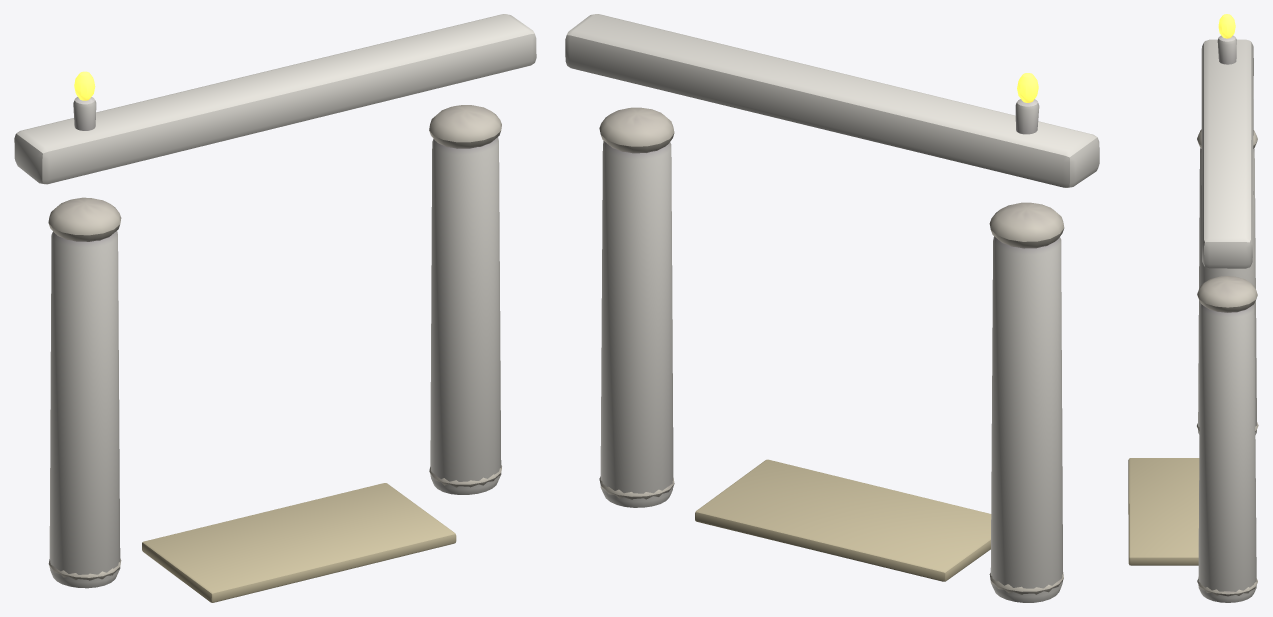
The picture shows the model from 3 angles, left to right: view 1: azimuth 30°, elevation 25°; view 2: azimuth 150°, elevation 25°; view 3: azimuth 270°, elevation 25°; orthographic projection. The views are drawn at different scales.
Parts seen in each view (by area): view 1: gate_a7633e30; view 2: gate_a7633e30; view 3: gate_a7633e30.
Boxes of the visible parts, x1,y1,x2,y2 form: gate_a7633e30: [14, 14, 536, 602]; gate_a7633e30: [565, 14, 1099, 602]; gate_a7633e30: [1128, 14, 1258, 602].
Size of the model in its own units: 4.87 by 4.73 by 1.31.
